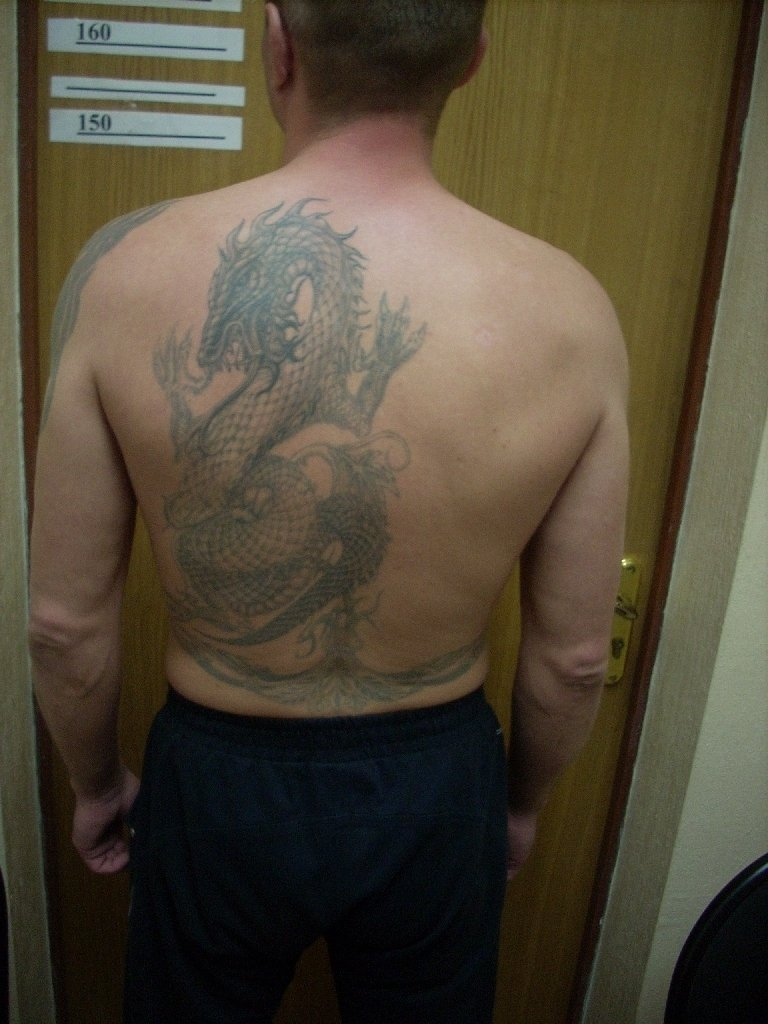tatu6_drakon: (130, 187, 535, 726)
